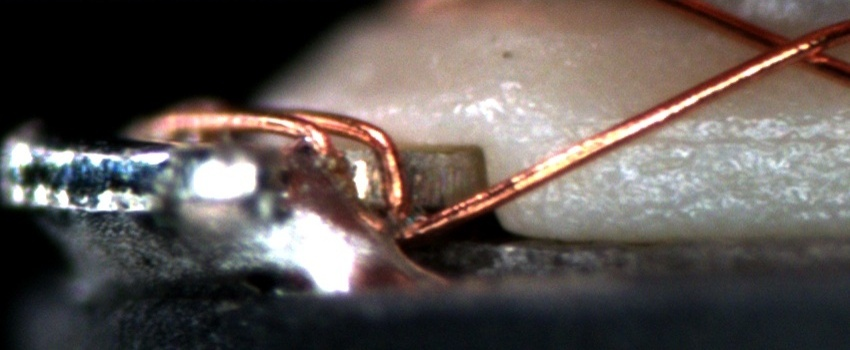CL: (739, 19, 841, 76)
DL: (539, 105, 850, 169)
TE: (132, 96, 416, 226)
